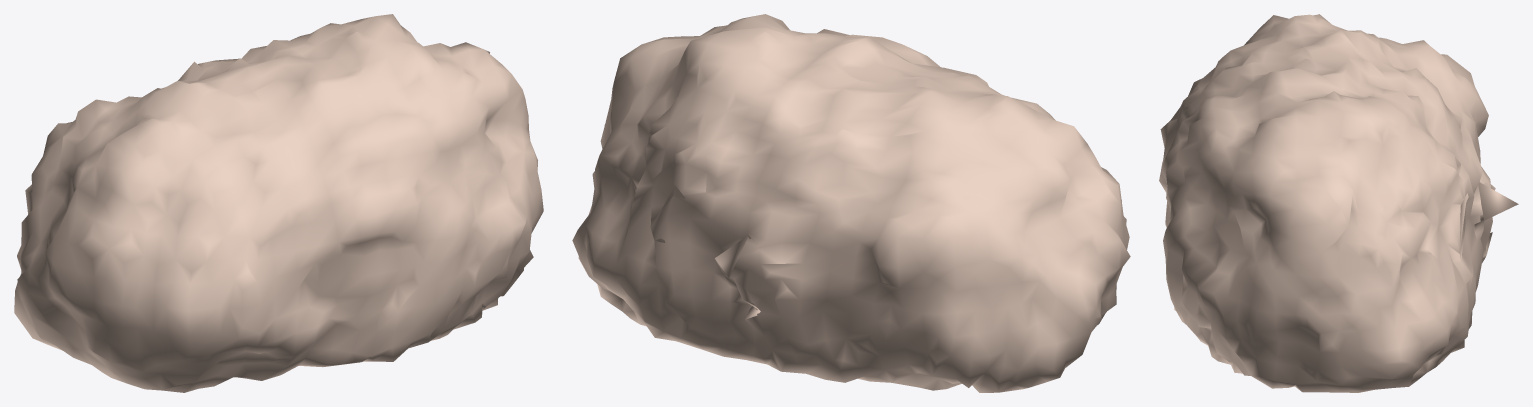
Rendered from SM_Boulder_A.fbx.
3 views of the same model, side by side, from view 1: azimuth 30°, elevation 25°; view 2: azimuth 150°, elevation 25°; view 3: azimuth 270°, elevation 25° (orthographic). The views are drawn at different scales.
Parts seen in each view (by area): view 1: SM_Boulder_A; view 2: SM_Boulder_A; view 3: SM_Boulder_A.
Boxes of the visible parts, x1,y1,x2,y2 form: SM_Boulder_A: (14, 14, 543, 392); SM_Boulder_A: (572, 14, 1130, 392); SM_Boulder_A: (1159, 14, 1518, 392).
Bounding box in the file's own units: 392 × 199 × 269.
